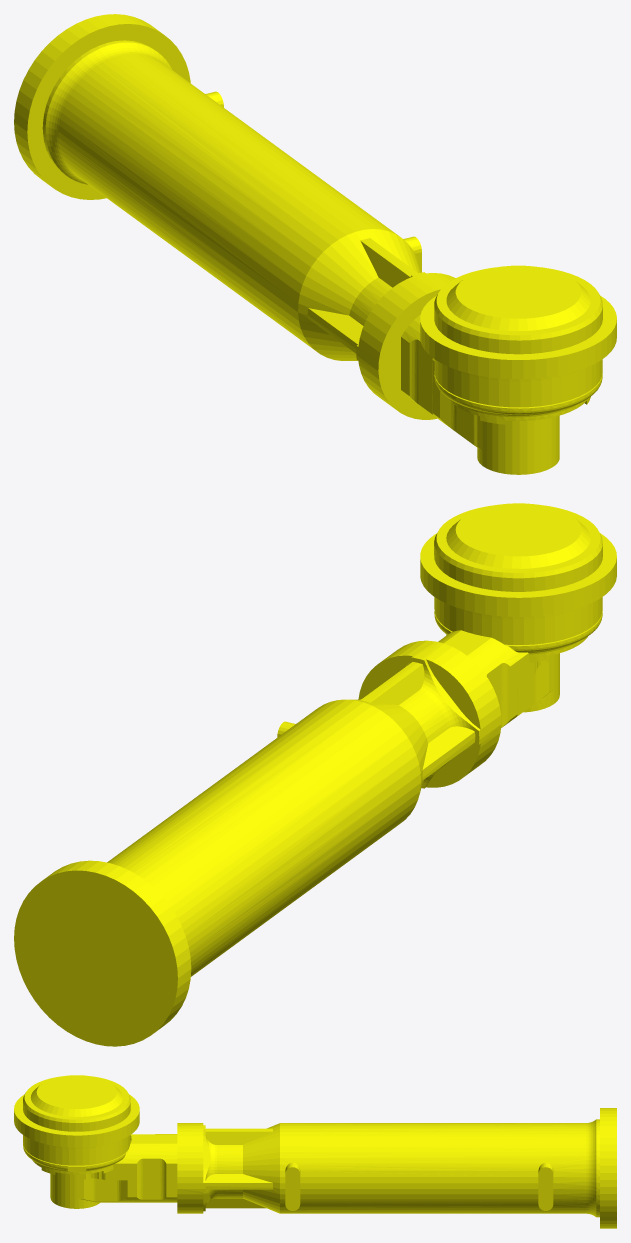
3 renders of one model, top to bottom at view 1: azimuth 30°, elevation 25°; view 2: azimuth 150°, elevation 25°; view 3: azimuth 270°, elevation 25°, orthographic. The views are drawn at different scales.
Parts seen in each view (by area): view 1: node; view 2: node; view 3: node.
Boxes of the visible parts, box(x1,y1,x2,y2) form: node: box(14, 14, 616, 474); node: box(14, 503, 616, 1046); node: box(14, 1075, 616, 1228).
Size of the model in its own units: 169 by 194 by 810.
